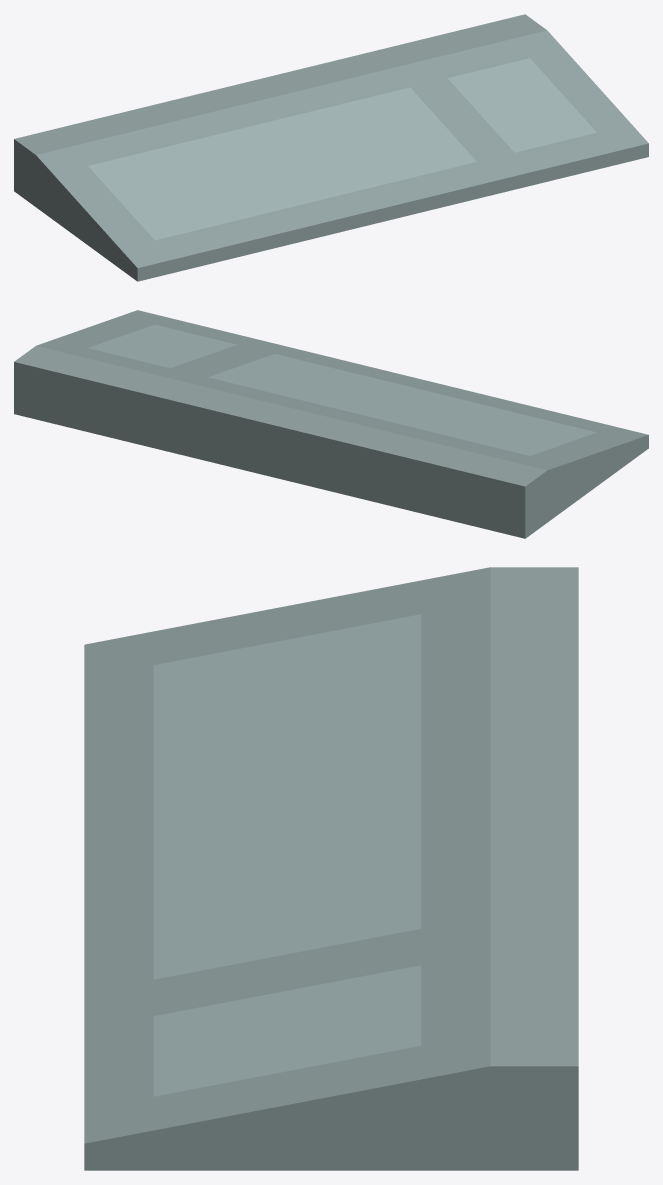
Rendered from computerKeyboard.glb.
3 views of the same model, one above another, from view 1: azimuth 30°, elevation 25°; view 2: azimuth 150°, elevation 25°; view 3: azimuth 270°, elevation 25° (orthographic). The views are drawn at different scales.
Visible parts, largest first — view 1: computerKeyboard(Clone); view 2: computerKeyboard(Clone); view 3: computerKeyboard(Clone).
Boxes of the visible parts, x1,y1,x2,y2 form: computerKeyboard(Clone): (14,14,648,281); computerKeyboard(Clone): (14,310,648,538); computerKeyboard(Clone): (84,567,578,1170).
Size of the model in its own units: 0.5729 by 0.0559 by 0.2399.
2 materials, 2 textured.
